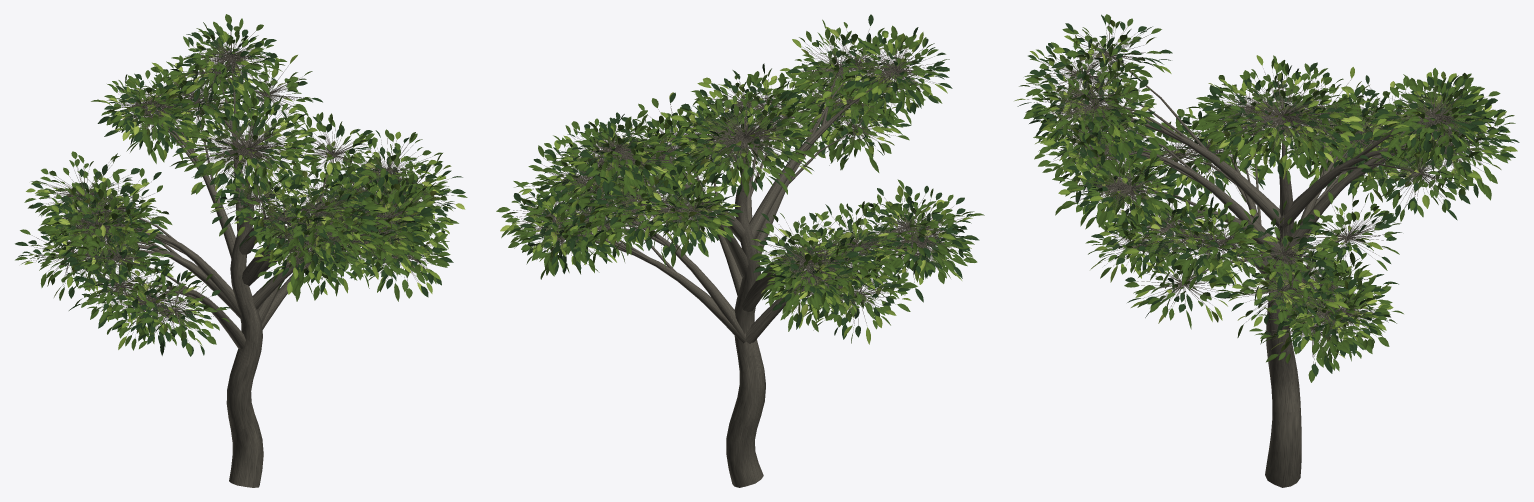
The model's file is warmShadeTree.glb.
The picture shows the model from 3 angles, left to right: view 1: azimuth 30°, elevation 25°; view 2: azimuth 150°, elevation 25°; view 3: azimuth 270°, elevation 25°; orthographic projection. The views are drawn at different scales.
Visible parts, largest first — view 1: shade-foliage, shade-branches; view 2: shade-foliage, shade-branches; view 3: shade-foliage, shade-branches.
Boxes of the visible parts, bbox=[...] form: shade-foliage: bbox=[15, 14, 467, 356]; shade-branches: bbox=[31, 30, 454, 487]; shade-foliage: bbox=[496, 14, 984, 344]; shade-branches: bbox=[513, 29, 966, 487]; shade-foliage: bbox=[1014, 14, 1519, 382]; shade-branches: bbox=[1027, 24, 1507, 487].
Size of the model in its own units: 7.05 by 6.52 by 6.93.
Materials: 5 (5 with a texture image).
